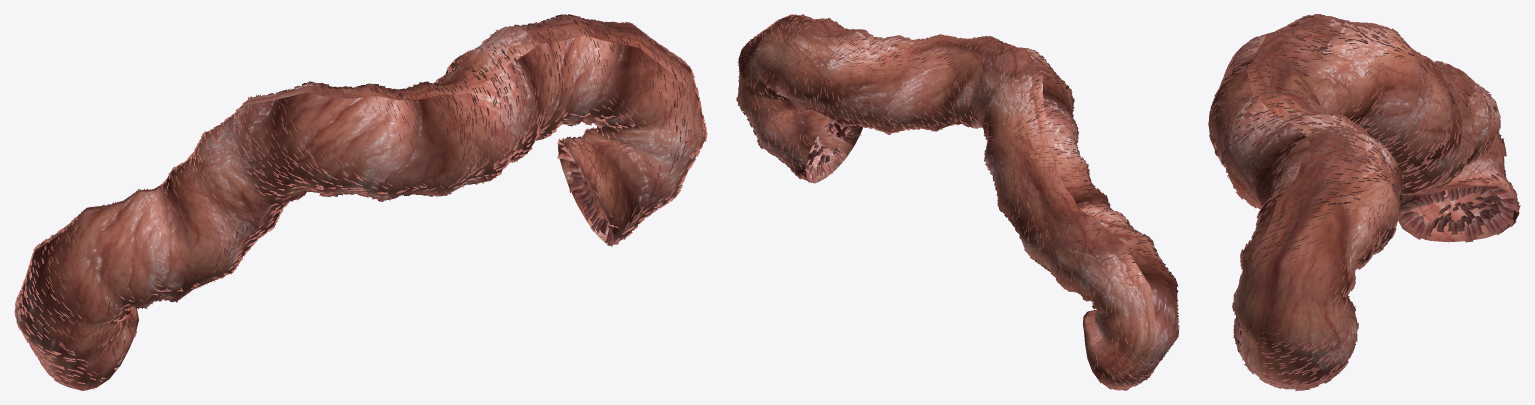
File: intestino_delgado.fbx
3 renders of one model, left to right at view 1: azimuth 30°, elevation 25°; view 2: azimuth 150°, elevation 25°; view 3: azimuth 270°, elevation 25°, orthographic. The views are drawn at different scales.
Parts seen in each view (by area): view 1: Intestino_delgado, Vellos; view 2: Intestino_delgado, Vellos; view 3: Intestino_delgado, Vellos.
Part boxes in pixels (x1,y1,x2,y2): Intestino_delgado: (14, 14, 705, 390); Vellos: (14, 14, 707, 390); Intestino_delgado: (737, 15, 1178, 390); Vellos: (736, 14, 1179, 390); Intestino_delgado: (1208, 16, 1519, 389); Vellos: (1209, 14, 1520, 390).
Size of the model in its own units: 30735 by 14723 by 12826.
